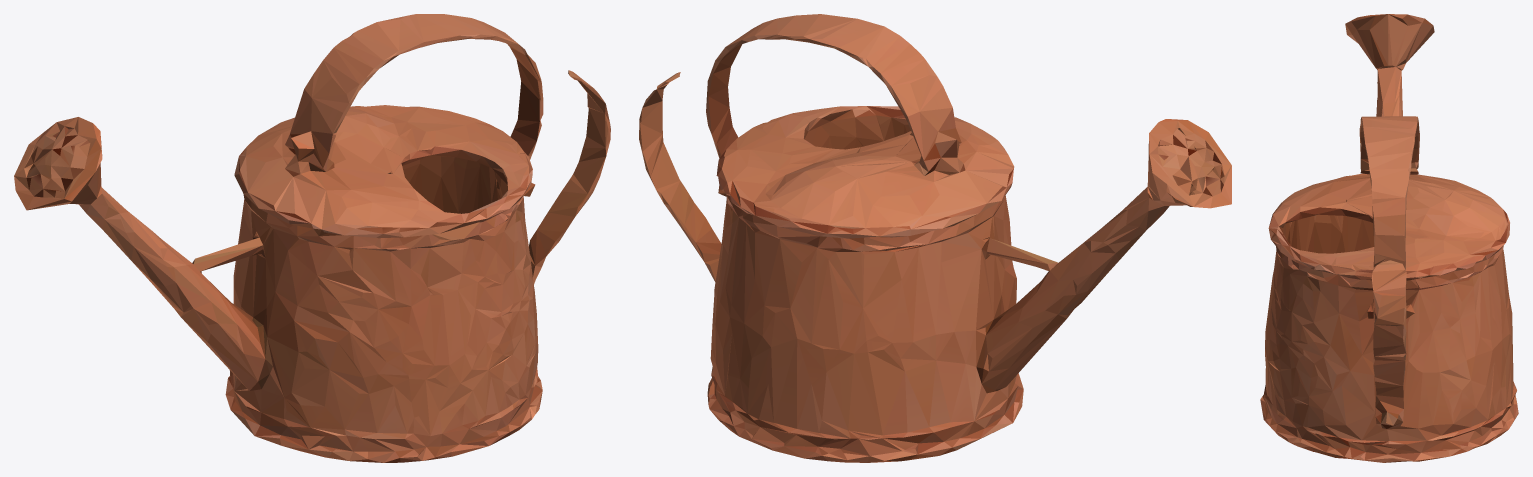
File: can.glb
3 renders of one model, left to right at view 1: azimuth 30°, elevation 25°; view 2: azimuth 150°, elevation 25°; view 3: azimuth 270°, elevation 25°, orthographic. The views are drawn at different scales.
Parts seen in each view (by area): view 1: can; view 2: can; view 3: can.
Boxes of the visible parts, x1,y1,x2,y2 form: can: (14,14,610,462); can: (639,14,1231,462); can: (1260,14,1518,462).
Bounding box in the file's own units: 0.9836 × 0.586 × 0.4669.
Materials: 1 (1 with a texture image).
